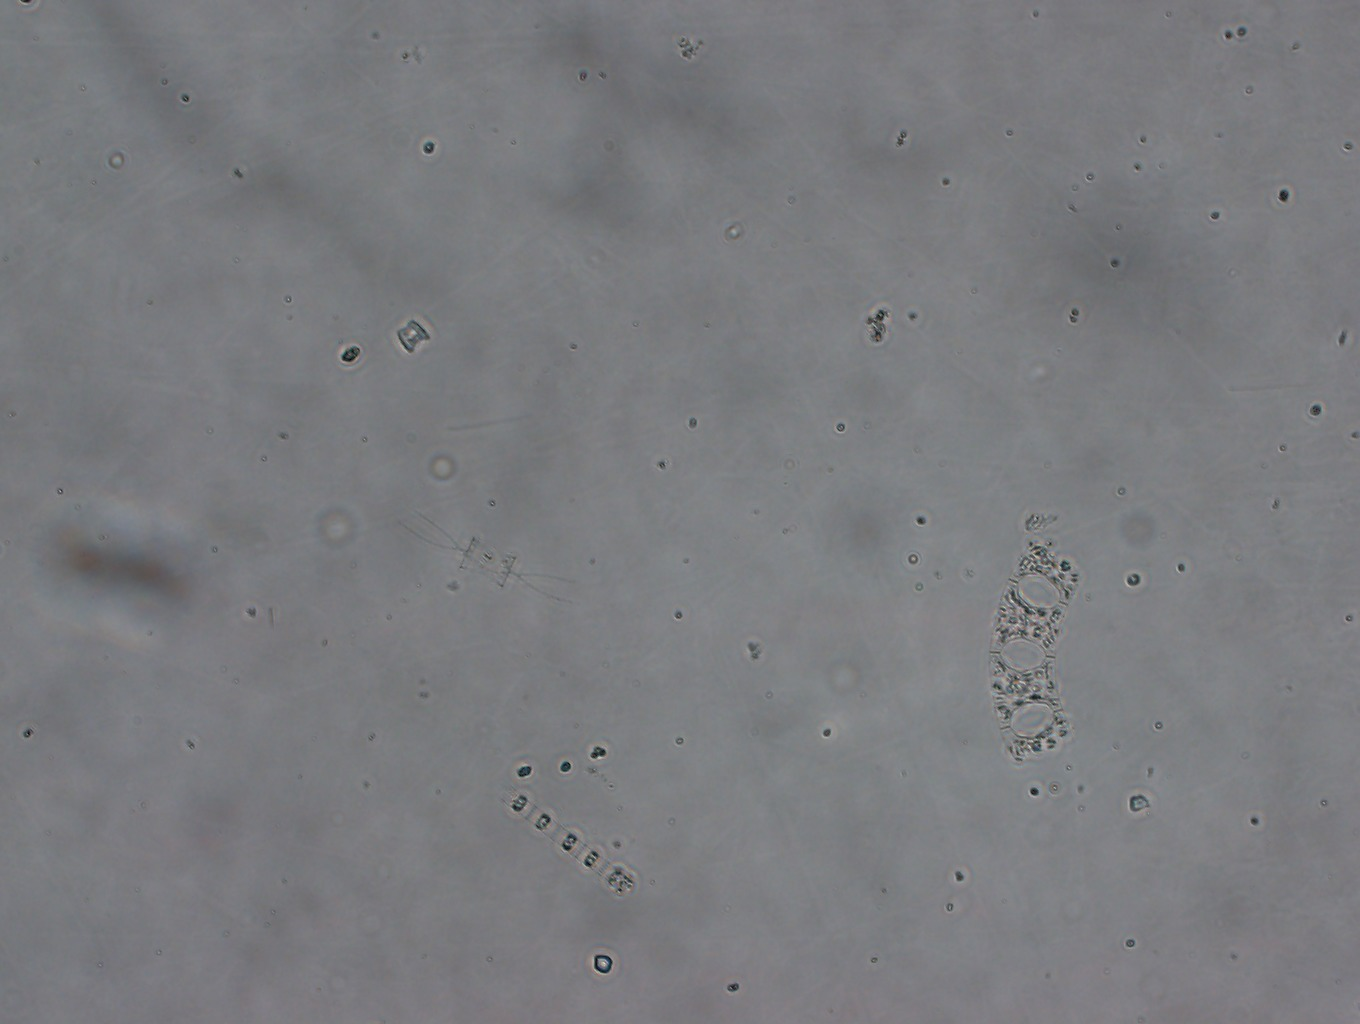chaetoceros: (386, 504, 591, 623)
eucampia: (976, 529, 1103, 781)
skeletonema: (489, 790, 641, 909)
